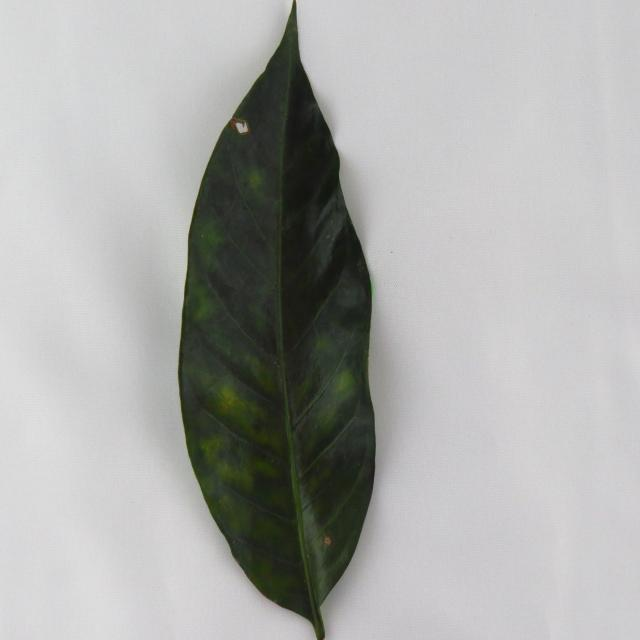DeficienciaNutricional-Magnesio: (179, 3, 375, 638)
